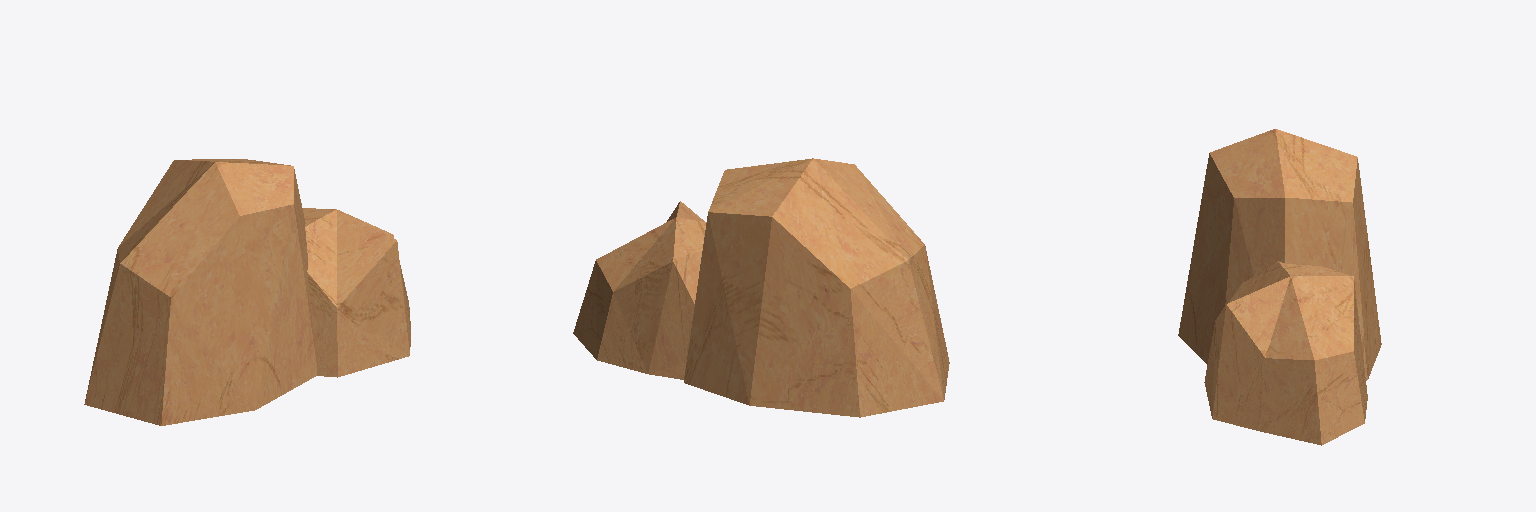
The picture shows the model from 3 angles: view 1: azimuth 30°, elevation 25°; view 2: azimuth 150°, elevation 25°; view 3: azimuth 270°, elevation 25°; orthographic projection.
Visible parts, largest first — view 1: Rock3; view 2: Rock3; view 3: Rock3.
Part boxes in pixels (x1,y1,x2,y2): Rock3: (84, 159, 410, 425); Rock3: (573, 158, 949, 417); Rock3: (1178, 129, 1381, 445).
Size of the model in its own units: 35.69 by 20.85 by 18.06.
3 materials, 3 textured.